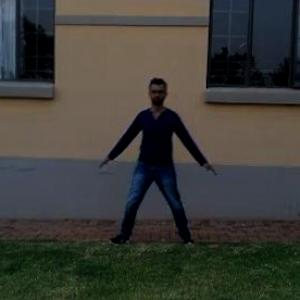land: (94, 74, 226, 249)
